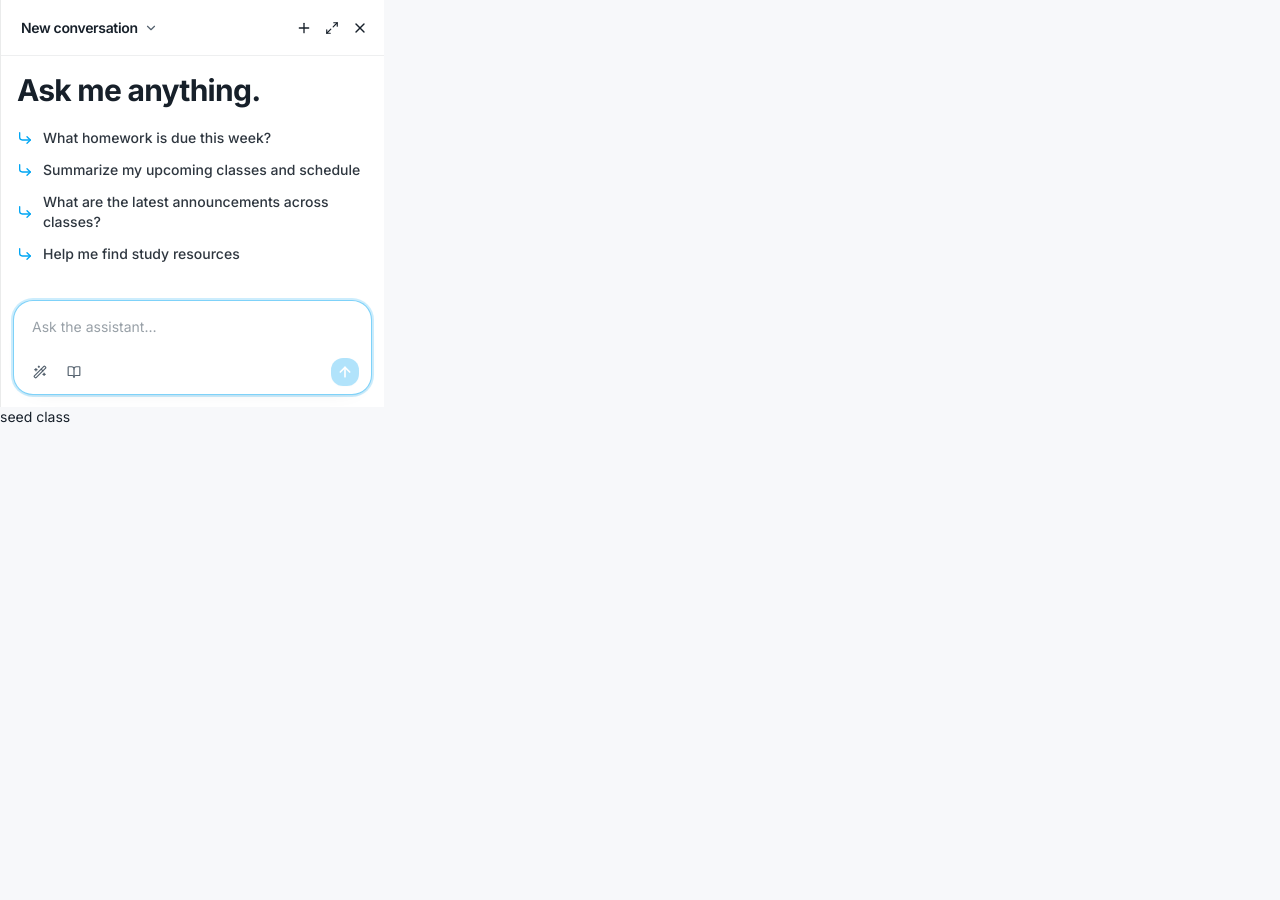
Test case: AiSidePanel › history stays hidden until requested
The width and height of the screenshot is (1280, 900).
Check: the text "Homework help" is not shown
Click the button with aria-label "View conversation history" at (89, 28), box left=13, top=12, right=166, bottom=44
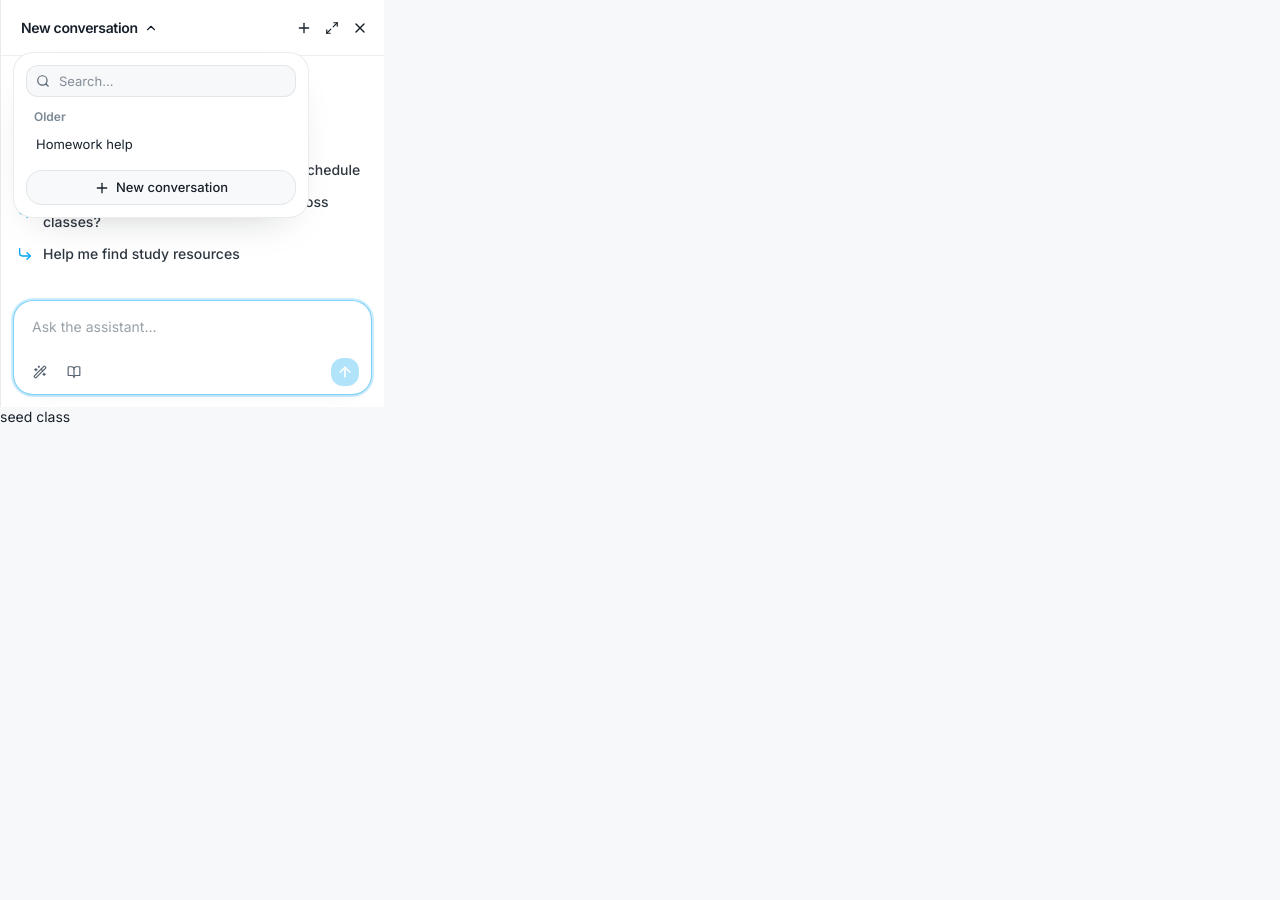
Check: the text "Homework help" is shown, box left=36, top=136, right=141, bottom=154
